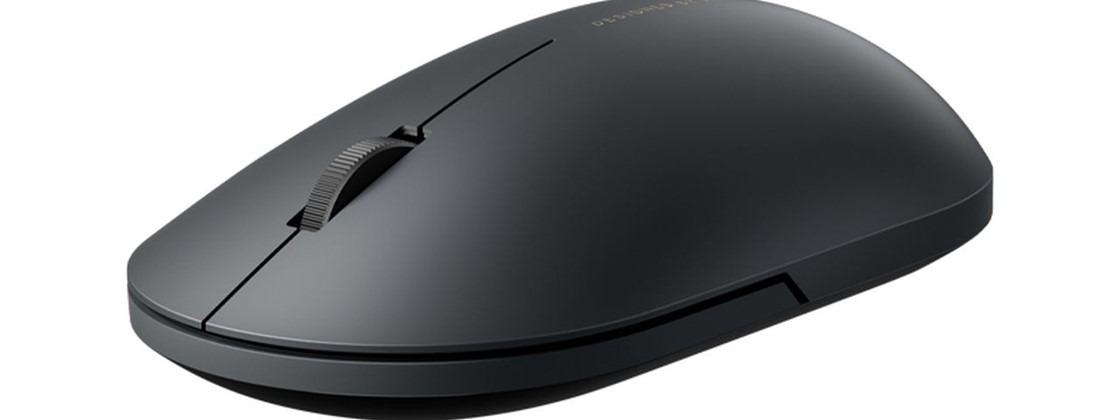mouse: (114, 4, 1003, 411)
